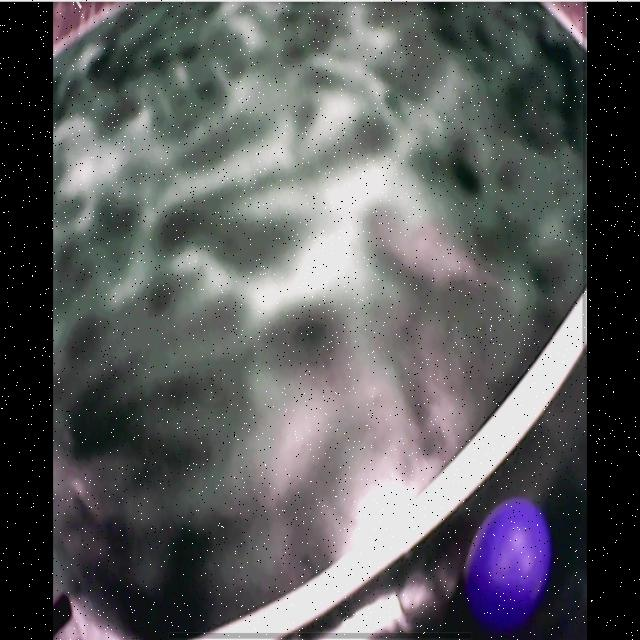ball: (467, 499, 555, 625)
